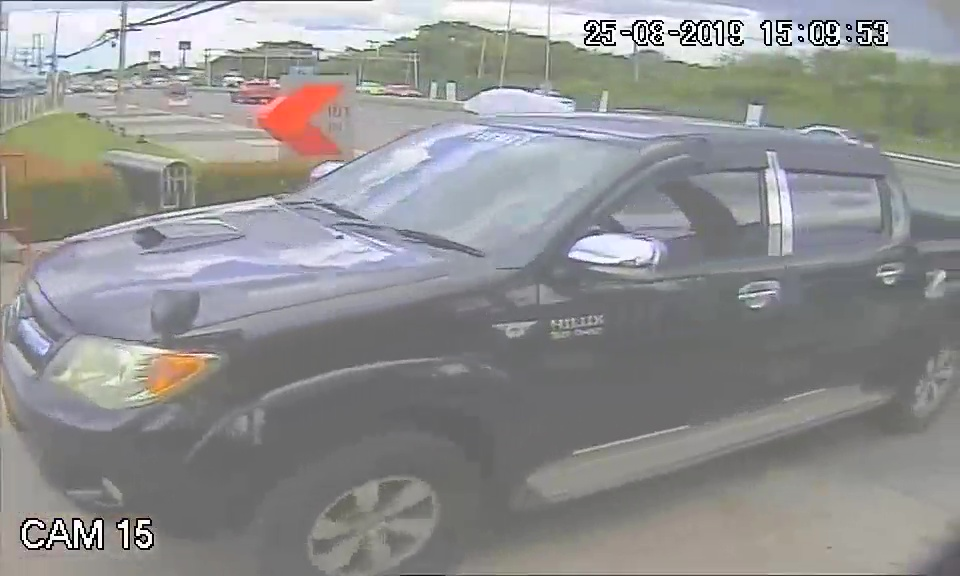pickup: (8, 111, 932, 519)
